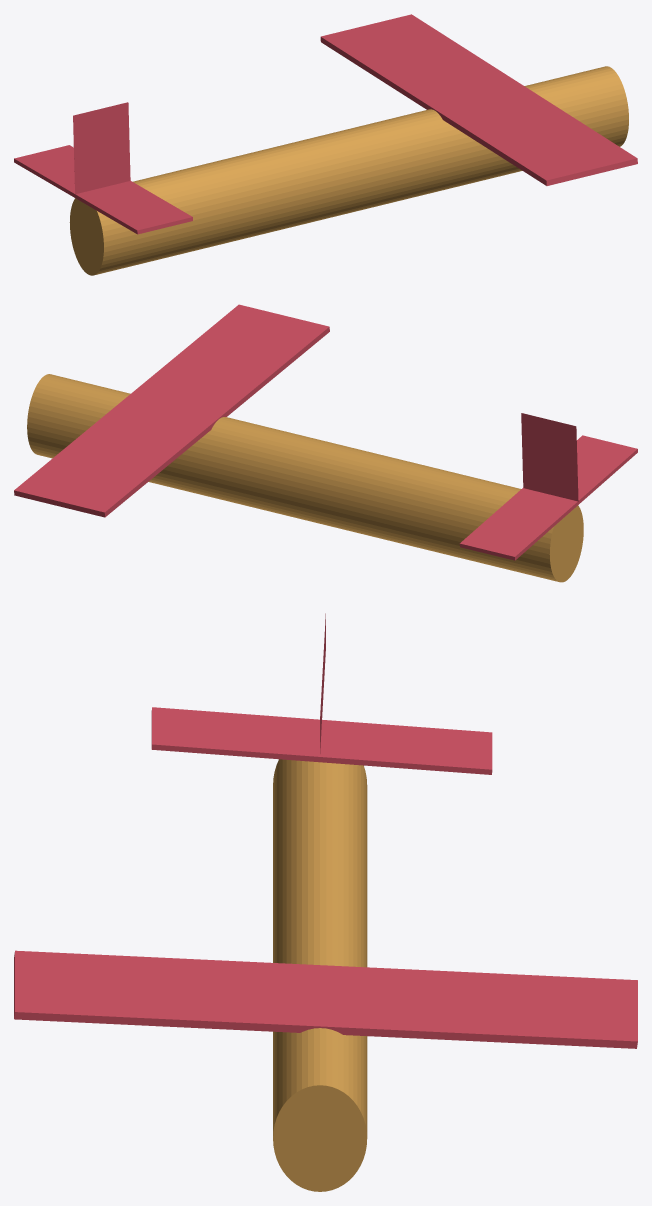
The model's file is litak.glb.
3 renders of one model, top to bottom at view 1: azimuth 30°, elevation 25°; view 2: azimuth 150°, elevation 25°; view 3: azimuth 270°, elevation 25°, orthographic. The views are drawn at different scales.
Parts seen in each view (by area): view 1: Mesh_Mesh_head_geo.001_lambert2SG.001; view 2: Mesh_Mesh_head_geo.001_lambert2SG.001; view 3: Mesh_Mesh_head_geo.001_lambert2SG.001.
Boxes of the visible parts, x1,y1,x2,y2 form: Mesh_Mesh_head_geo.001_lambert2SG.001: (14, 14, 637, 275); Mesh_Mesh_head_geo.001_lambert2SG.001: (14, 304, 637, 582); Mesh_Mesh_head_geo.001_lambert2SG.001: (14, 613, 637, 1191).
Size of the model in its own units: 145 by 41.19 by 106.
